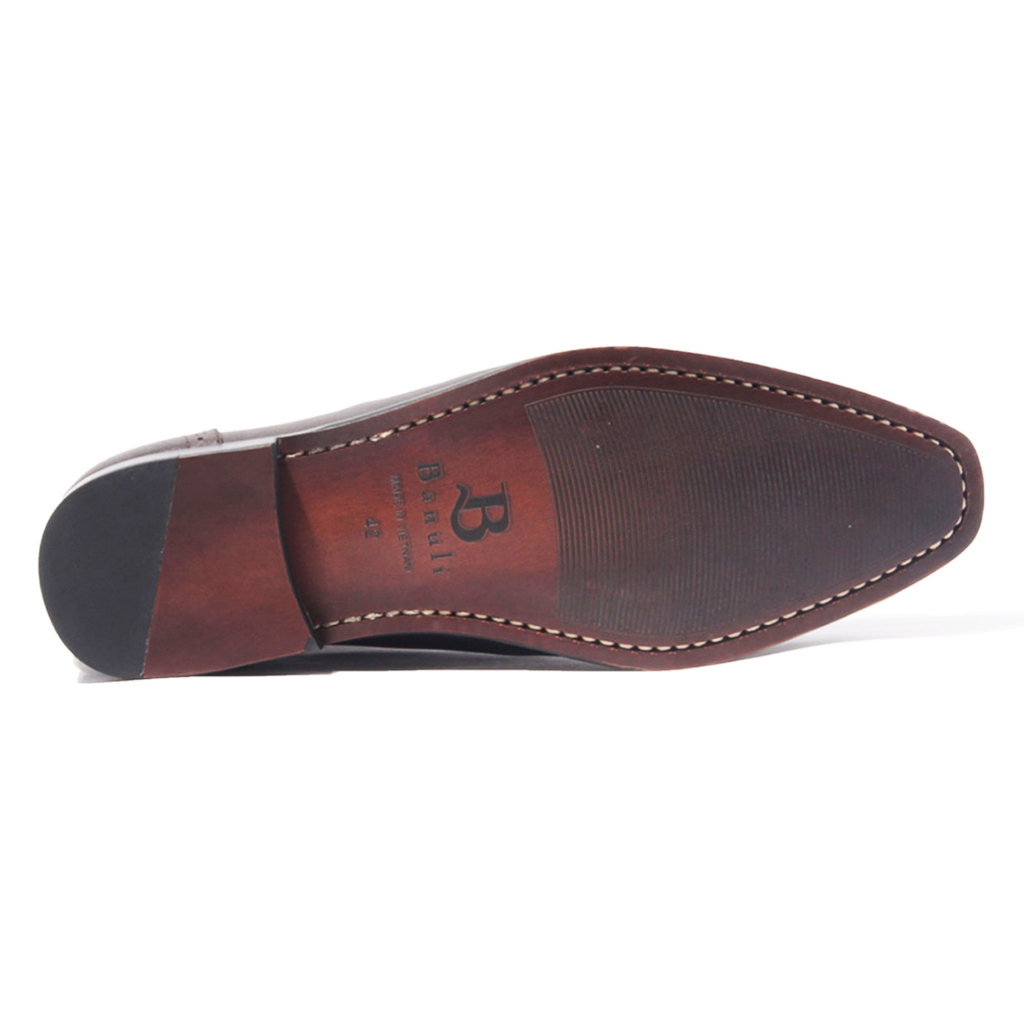loafers: (38, 346, 986, 680)
